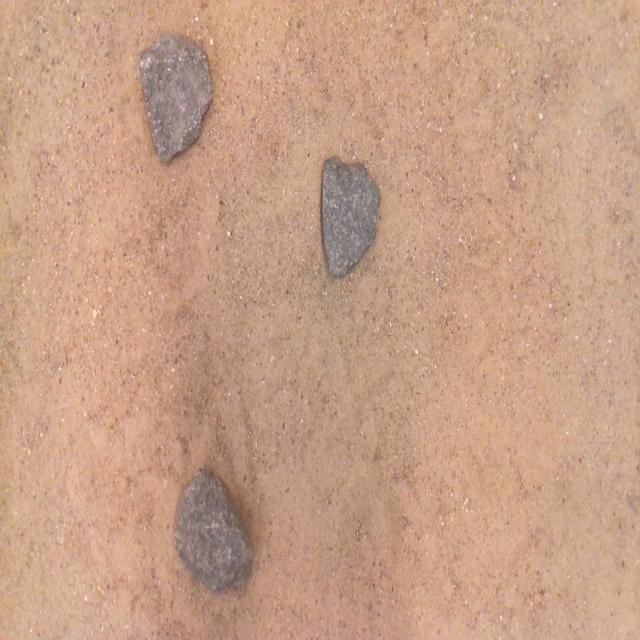rock: (175, 469, 252, 591), (139, 34, 212, 161), (322, 158, 379, 276)
